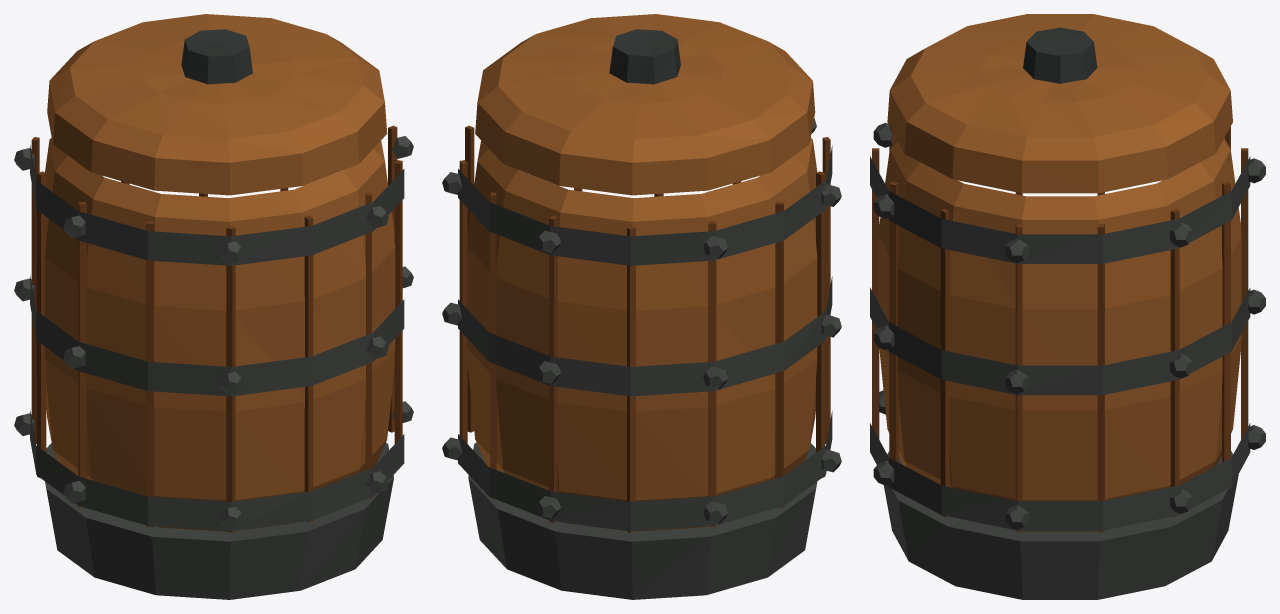
The model's file is Water-Barrel.glb.
3 views of the same model, side by side, from view 1: azimuth 30°, elevation 25°; view 2: azimuth 150°, elevation 25°; view 3: azimuth 270°, elevation 25° (orthographic).
Parts seen in each view (by area): view 1: water-barrel-static-water-barrel-warm-wood-mat, water-barrel-static-water-barrel-charcoal-hoop-mat, water-barrel-static-water-barrel-end-grain-mat, water-barrel-static-water-barrel-bung-mat; view 2: water-barrel-static-water-barrel-warm-wood-mat, water-barrel-static-water-barrel-charcoal-hoop-mat, water-barrel-static-water-barrel-end-grain-mat, water-barrel-static-water-barrel-bung-mat; view 3: water-barrel-static-water-barrel-warm-wood-mat, water-barrel-static-water-barrel-charcoal-hoop-mat, water-barrel-static-water-barrel-end-grain-mat, water-barrel-static-water-barrel-bung-mat.
Part boxes in pixels (x1,y1,x2,y2): water-barrel-static-water-barrel-warm-wood-mat: (45,14,395,531); water-barrel-static-water-barrel-charcoal-hoop-mat: (14,136,413,599); water-barrel-static-water-barrel-end-grain-mat: (31,125,402,532); water-barrel-static-water-barrel-bung-mat: (181,29,252,84); water-barrel-static-water-barrel-warm-wood-mat: (467,14,817,531); water-barrel-static-water-barrel-charcoal-hoop-mat: (442,118,841,599); water-barrel-static-water-barrel-end-grain-mat: (459,125,830,532); water-barrel-static-water-barrel-bung-mat: (609,29,680,84); water-barrel-static-water-barrel-warm-wood-mat: (878,14,1241,531); water-barrel-static-water-barrel-charcoal-hoop-mat: (870,122,1265,599); water-barrel-static-water-barrel-end-grain-mat: (872,126,1248,532); water-barrel-static-water-barrel-bung-mat: (1023,27,1097,83).
Bounding box in the file's own units: 0.8596 × 1.15 × 0.8472.
